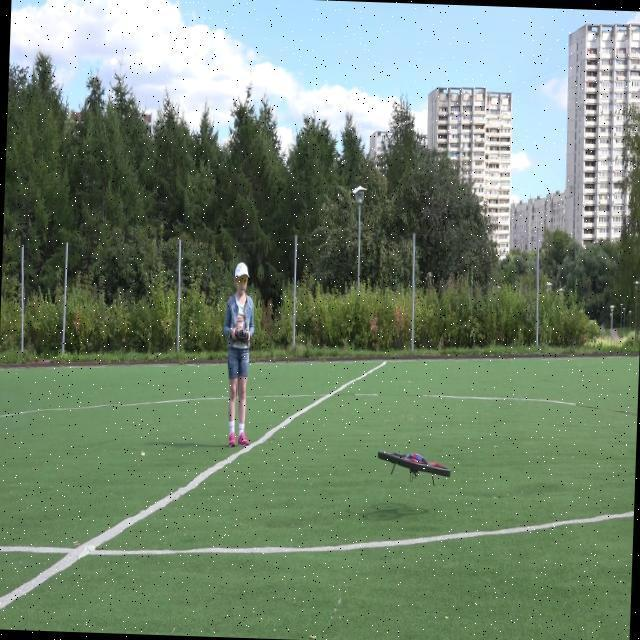Drons: (372, 439, 458, 492)
